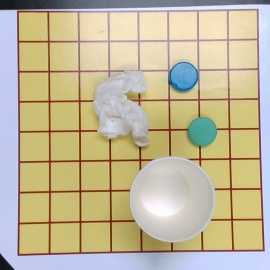blue: (169, 62, 200, 90)
cup: (131, 157, 216, 243)
green: (187, 117, 218, 147)
